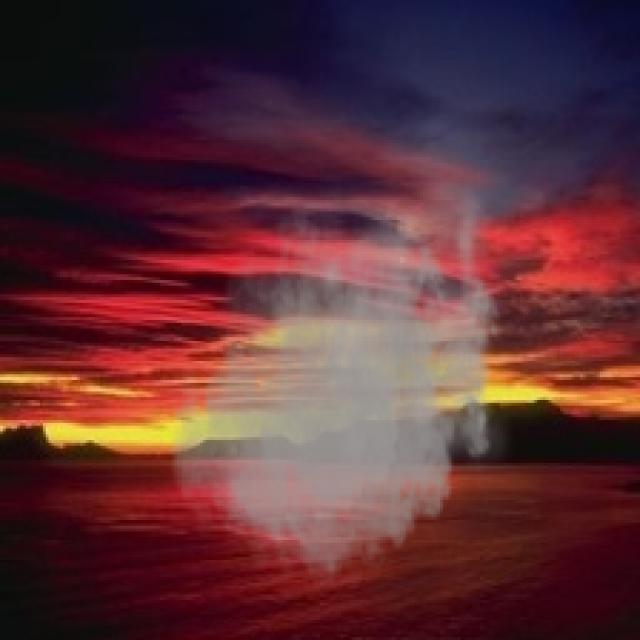Smoke: (160, 180, 517, 597)
